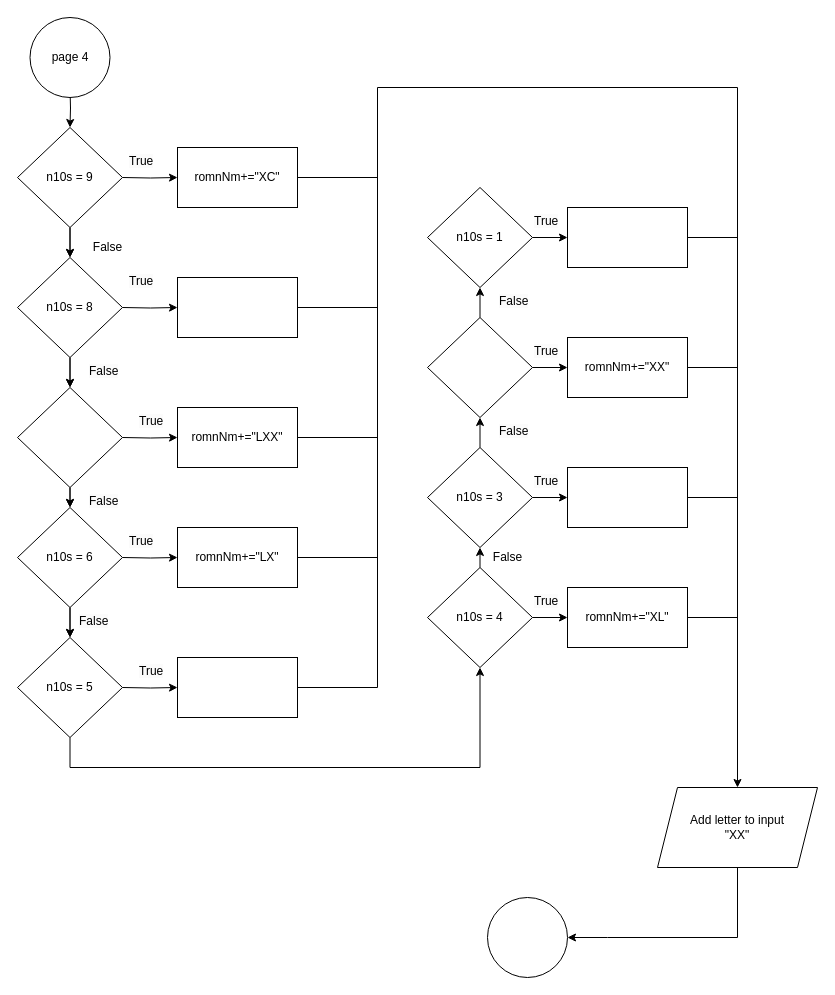
This 835x995 diagram has some shape labels left out. Here are the shapes that lost their labels. From the top down, the centre of each, then its label:
(627,237): romnNm+="X"
(237,307): romnNm+="LXXX"
(479,367): n10s = 2
(69,437): n10s = 7
(627,497): romnNm+="XXX"
(237,687): romnNm+="L"
(527,937): page 5
